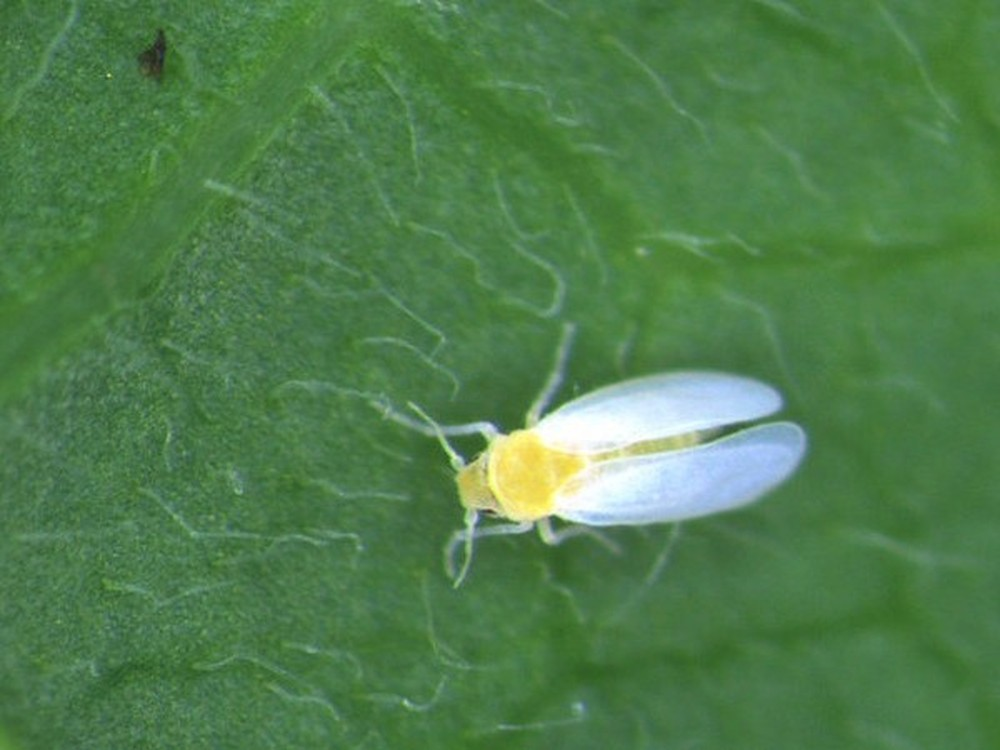Mosca Blanca: (380, 342, 838, 602)
